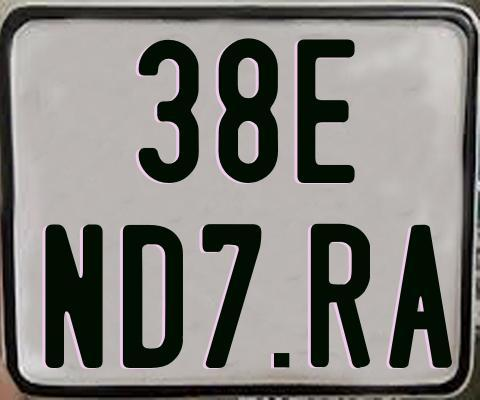3: (137, 37, 200, 184)
7: (201, 223, 263, 373)
8: (217, 38, 277, 189)
A: (388, 225, 452, 373)
D: (122, 223, 188, 370)
E: (297, 36, 355, 185)
N: (45, 223, 104, 372)
R: (309, 221, 368, 365)
